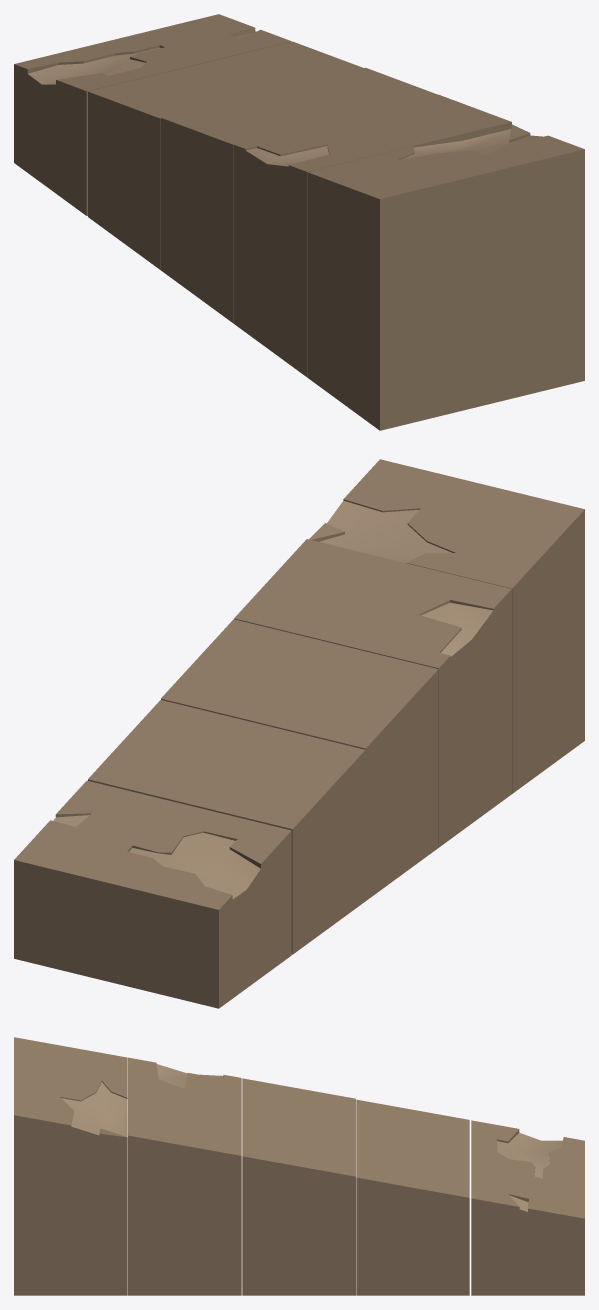
Rendered from egypt_ramp.fbx.
The picture shows the model from 3 angles, top to bottom: view 1: azimuth 30°, elevation 25°; view 2: azimuth 150°, elevation 25°; view 3: azimuth 270°, elevation 25°; orthographic projection. The views are drawn at different scales.
Visible parts, largest first — view 1: pCube1, pCube2, pCube3, pCube4, pCube5; view 2: pCube5, pCube1, pCube2, pCube3, pCube4; view 3: pCube1, pCube2, pCube3, pCube4, pCube5.
Boxes of the visible parts, x1,y1,x2,y2 form: pCube1: (307,124,584,430); pCube2: (234,95,511,376); pCube3: (161,67,438,323); pCube4: (88,41,363,270); pCube5: (14,14,291,215); pCube5: (14,780,291,1008); pCube1: (309,459,584,793); pCube2: (234,539,511,847); pCube3: (161,619,438,900); pCube4: (88,700,365,954); pCube1: (14,1037,127,1295); pCube2: (128,1057,241,1295); pCube3: (242,1078,355,1295); pCube4: (356,1099,469,1295); pCube5: (471,1120,584,1295).
Bounding box in the file's own units: 4 × 4.32 × 12.37.
